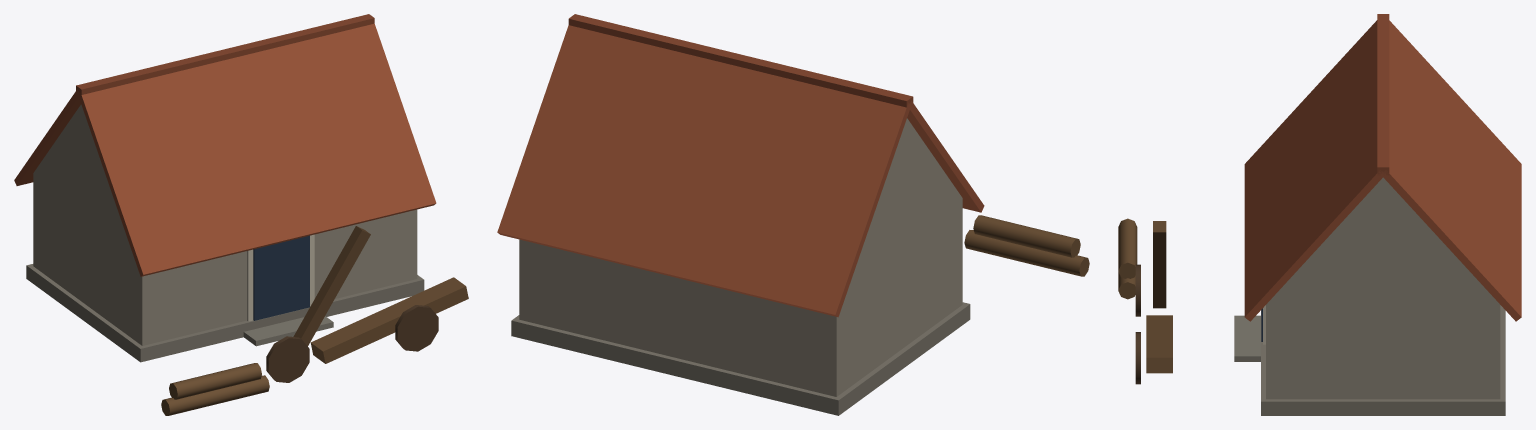
The model's file is procedural_siegeworkshop@3.glb.
3 views of the same model, side by side, from view 1: azimuth 30°, elevation 25°; view 2: azimuth 150°, elevation 25°; view 3: azimuth 270°, elevation 25° (orthographic). The views are drawn at different scales.
Visible parts, largest first — view 1: part_0; view 2: part_0; view 3: part_0.
Boxes of the visible parts, x1,y1,x2,y2 form: part_0: (14,14,468,415); part_0: (497,14,1089,415); part_0: (1118,14,1521,415).
Size of the model in its own units: 7.57 by 5.21 by 7.58.
